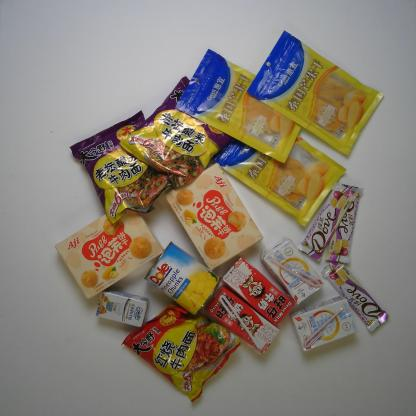Canned Food: (144, 241, 221, 315)
Chocolate: (321, 260, 390, 334), (298, 183, 358, 262), (326, 182, 364, 266)
Dessert: (54, 203, 163, 301), (164, 164, 264, 270)
Dried Fruit: (206, 102, 346, 228), (246, 30, 385, 155), (175, 50, 324, 164)
Instant Noodles: (120, 76, 245, 188), (69, 110, 173, 224), (121, 306, 241, 404)
Milk: (206, 286, 280, 354), (222, 258, 294, 326), (261, 237, 324, 306), (290, 297, 359, 351), (96, 288, 150, 328)
